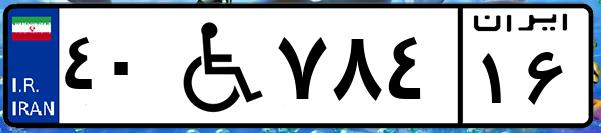0: (110, 28, 158, 98)
1: (475, 38, 525, 113)
4: (385, 28, 445, 110), (57, 26, 110, 100)
6: (525, 38, 570, 115)
7: (270, 28, 330, 110)
8: (330, 28, 385, 110)
ژ (معلولین و جانبازان): (158, 12, 270, 120)
